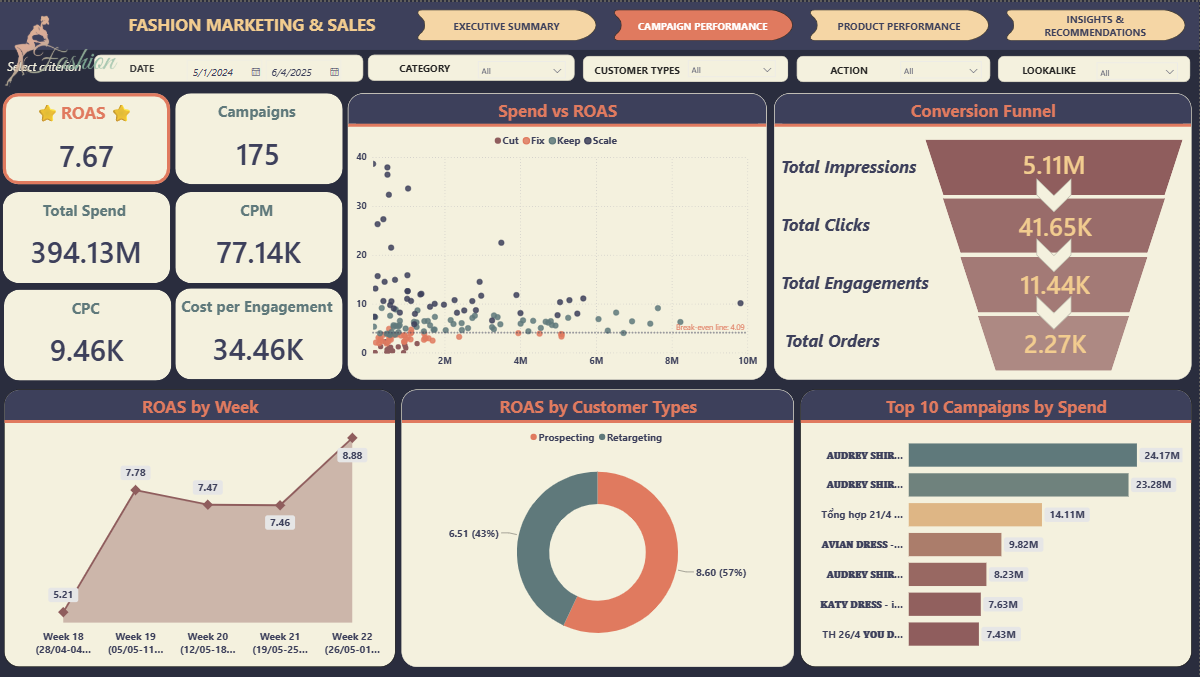

This screenshot's page, from the dashboard's own definition file:
{"tool":"powerbi","page":{"name":"CAMPAIGN PERFORMANCE","canvas":[1920,1080],"ordinal":1},"visuals":[{"type":"shape","box":[0,0,1920,76.7],"z":0},{"type":"shape","box":[152,84,431,43.6],"z":0,"group":"g13"},{"type":"shape","box":[1482,220,412,88.9],"z":0,"group":"g1"},{"type":"shape","box":[1565.9,501.7,242.5,88],"z":0,"group":"g2"},{"type":"textbox","box":[167.3,89.4,121.1,32.3],"z":1000,"group":"g13"},{"type":"shape","box":[282.1,146,267.8,145.4],"z":1000,"group":"g4"},{"type":"scatterChart","title":"Spend vs ROAS","fields":{"Category":["Dim_Camp_Cost.Tên chiến dịch"],"Series":["Dim_Camp_Cost.Action Bucket Col"],"X":["_Measures.Total Spend"],"Y":["_Measures.ROAS (Return on Ads Spend)"]},"box":[558,146,670,458],"z":1000},{"type":"shape","box":[5.2,146.7,267.8,145.5],"z":1000,"group":"g6"},{"type":"group","id":"g1","title":"Funnel","box":[1482,220,412,369.7],"z":1000,"group":"g15"},{"type":"shape","box":[282.1,303.7,267.8,145.9],"z":1000,"group":"g7"},{"type":"shape","box":[5.2,304.1,267.8,145.9],"z":1000,"group":"g8"},{"type":"shape","box":[1509.2,314.8,355.9,87.4],"z":1000,"group":"g1"},{"type":"shape","box":[281.5,458.7,267.8,145.9],"z":1000,"group":"g9"},{"type":"shape","box":[7.6,460.1,267.8,145.9],"z":1000,"group":"g10"},{"type":"slicer","fields":{"Values":["Dim_Date.Date"]},"box":[287.5,87,279.9,37.9],"z":2000,"group":"g13"},{"type":"shape","box":[1537.7,408.2,299.6,89.1],"z":2000,"group":"g1"},{"type":"clusteredBarChart","title":"Top 10 Campaigns by Spend","fields":{"Category":["Dim_Camp_Cost.Tên chiến dịch"],"Y":["_Measures.Total Spend"]},"box":[1282,620,626,444],"z":2000},{"type":"pageNavigator","box":[662,12,1244,50],"z":3000},{"type":"shape","box":[590.9,84,331.1,42.2],"z":3000,"group":"g13"},{"type":"shape","box":[1276.7,85.6,310.3,42.2],"z":3000,"group":"g3"},{"type":"group","id":"g2","title":"Group 1","box":[1565.9,501.7,242.5,88],"z":3000,"group":"g1"},{"type":"textbox","box":[8,86,141.1,40],"z":4000},{"type":"textbox","box":[597.5,89,166.3,32.6],"z":4000,"group":"g13"},{"type":"textbox","box":[1283.1,91.8,155.9,32.7],"z":4000,"group":"g3"},{"type":"slicer","fields":{"Values":["Dim_Product.Danh mục"]},"box":[756.7,89,160,35.6],"z":5000,"group":"g13"},{"type":"slicer","fields":{"Values":["Dim_Camp_Cost.Action Bucket Col"]},"box":[1432.2,89.4,149.9,35.7],"z":5000,"group":"g3"},{"type":"funnel","title":"Conversion Funnel","fields":{"Y":["_Measures.Funnel Value"]},"box":[1240,145.7,668,458],"z":5000},{"type":"textbox","box":[276.9,154.7,273.2,66.6],"z":5000,"group":"g4"},{"type":"textbox","box":[0,155.4,273.2,66.6],"z":5000,"group":"g6"},{"type":"textbox","box":[276.9,312.4,273.1,66.8],"z":5000,"group":"g7"},{"type":"textbox","box":[0,312.8,273.2,66.8],"z":5000,"group":"g8"},{"type":"textbox","box":[276.3,467.4,273.2,66.8],"z":5000,"group":"g9"},{"type":"textbox","box":[2.4,468.8,273.2,66.8],"z":5000,"group":"g10"},{"type":"group","id":"g3","title":"Group 2","box":[1276.7,85.6,631.1,42.2],"z":6000,"group":"g12"},{"type":"shape","box":[1599.4,85.6,308.4,42.2],"z":6000,"group":"g3"},{"type":"shape","box":[934.8,86,328.8,42],"z":6000,"group":"g13"},{"type":"group","id":"g4","title":"Group 1","box":[276.9,146,273.2,145.9],"z":6000,"group":"g14"},{"type":"group","id":"g5","title":"Group 3","box":[0,146.7,273.8,147.5],"z":6000,"group":"g11"},{"type":"group","id":"g6","title":"Group 1","box":[0,146.7,273.8,147.5],"z":6000,"group":"g5"},{"type":"group","id":"g7","title":"Group 1","box":[276.9,303.7,274.2,146.4],"z":6000,"group":"g16"},{"type":"group","id":"g8","title":"Group 1","box":[0,304.1,273.2,145.9],"z":6000,"group":"g18"},{"type":"group","id":"g9","title":"Group 1","box":[276.3,458.7,273.2,145.9],"z":6000,"group":"g20"},{"type":"group","id":"g10","title":"Group 1","box":[2.4,460.1,273.2,145.9],"z":6000,"group":"g19"},{"type":"donutChart","title":"ROAS by Customer Types","fields":{"Category":["Dim_Camp_Cost.Customer Types"],"Y":["_Measures.ROAS (Return on Ads Spend)"]},"box":[644,620,628,444],"z":6000},{"type":"textbox","box":[1603.7,91,152.2,32],"z":7000,"group":"g12"},{"type":"textbox","box":[932,92,178.2,32],"z":7000,"group":"g13"},{"type":"group","id":"g11","title":"Group 4","box":[0,146,551.7,458.8],"z":7000},{"type":"group","id":"g12","title":"Group 5","box":[1276.7,85.6,631.1,42.2],"z":8000},{"type":"slicer","fields":{"Values":["Dim_Camp_Cost.Customer Types"]},"box":[1091.1,88.9,160,35.6],"z":8000,"group":"g13"},{"type":"slicer","fields":{"Values":["Dim_Camp_Cost.Lookalike"]},"box":[1746,91.2,150,35.1],"z":8000,"group":"g3"},{"type":"group","id":"g13","title":"Group 6","box":[152,84,1111.6,44],"z":9000},{"type":"group","id":"g14","title":"Group 3","box":[276.9,146,273.2,144.7],"z":10000,"group":"g11"},{"type":"group","id":"g15","title":"Group 7","box":[1246,220,648,369.7],"z":10000},{"type":"textbox","box":[1246,240,246,54],"z":11000,"group":"g15"},{"type":"group","id":"g16","title":"Group 3","box":[276.9,303.7,274.8,145.2],"z":11000,"group":"g11"},{"type":"areaChart","title":"ROAS by Week","fields":{"Category":["Dim_Date.Week-Date"],"Y":["_Measures.ROAS (Return on Ads Spend)"]},"box":[8,620,626,444],"z":11000},{"type":"group","id":"g17","title":"Group 5","box":[0,12.8,623.6,133.9],"z":11001},{"type":"textbox","box":[201.8,12.8,421.9,47.7],"z":12000,"group":"g17"},{"type":"group","id":"g18","title":"Group 3","box":[0,304.1,273.8,146.1],"z":12000,"group":"g11"},{"type":"textbox","box":[1246,332,224,54],"z":12000,"group":"g15"},{"type":"image","box":[0,12.8,201.8,133.9],"z":13000,"group":"g17"},{"type":"textbox","box":[1246,426,262,54],"z":13000,"group":"g15"},{"type":"group","id":"g19","title":"Group 3","box":[2.4,460.1,272.5,144.7],"z":13000,"group":"g11"},{"type":"group","id":"g20","title":"Group 3","box":[276.3,458.7,273.8,146.1],"z":14000,"group":"g11"},{"type":"textbox","box":[1252,518,224,54],"z":14000,"group":"g15"},{"type":"shape","box":[1660,281.4,55.7,54.3],"z":15000,"group":"g15"},{"type":"cardVisual","fields":{"Data":["_Measures.Campaign Count"]},"box":[283,187.4,265.7,104.5],"z":16000,"group":"g4"},{"type":"cardVisual","fields":{"Data":["_Measures.ROAS (Return on Ads Spend)"]},"box":[7.7,194,264.6,99.5],"z":16000,"group":"g6"},{"type":"cardVisual","fields":{"Data":["_Measures.CPM"]},"box":[283.2,345.3,267.8,104.8],"z":16000,"group":"g7"},{"type":"cardVisual","fields":{"Data":["_Measures.Total Spend"]},"box":[5.2,345.7,267.9,103.5],"z":16000,"group":"g8"},{"type":"shape","box":[1660,377.1,55.7,54.3],"z":16000,"group":"g15"},{"type":"cardVisual","fields":{"Data":["_Measures.Cost per Cmt + Ib"]},"box":[282.9,500.9,265.7,103.5],"z":16000,"group":"g9"},{"type":"cardVisual","fields":{"Data":["_Measures.CPC"]},"box":[9,502.3,265.7,103.5],"z":16000,"group":"g10"},{"type":"shape","box":[1660,470,55.7,54.3],"z":17000,"group":"g15"},{"type":"cardVisual","fields":{"Data":["_Measures.Total Impressions"]},"box":[1535.7,222.9,304.3,71.4],"z":18000,"group":"g15"},{"type":"cardVisual","fields":{"Data":["_Measures.Total Clicks"]},"box":[1537.1,322.9,304.3,71.4],"z":19000,"group":"g15"},{"type":"cardVisual","fields":{"Data":["_Measures.Total Comment + Ib"]},"box":[1537.1,414.3,304.3,71.4],"z":20000,"group":"g15"},{"type":"cardVisual","fields":{"Data":["_Measures.Total Units Sold (Ads)"]},"box":[1538.6,508.6,304.3,71.4],"z":21000,"group":"g15"}]}

Visuals, with their boxes in screenshot pixels (x1, y1, x2, y2), scaled from the page's 1920x1080 canvas onto the 1200x677 screenshot:
shape: [0,0,1199,48]
shape: [95,53,364,80]
shape: [926,138,1184,194]
shape: [979,314,1130,370]
textbox: [105,56,180,76]
shape: [176,92,344,183]
"Spend vs ROAS" scatterChart: [349,92,768,379]
shape: [3,92,171,183]
"Funnel" group: [926,138,1184,370]
shape: [176,190,344,282]
shape: [3,191,171,282]
shape: [943,197,1166,252]
shape: [176,288,343,379]
shape: [5,288,172,380]
slicer - Dim_Date.Date: [180,55,355,78]
shape: [961,256,1148,312]
"Top 10 Campaigns by Spend" clusteredBarChart: [801,389,1192,667]
pageNavigator: [414,8,1191,39]
shape: [369,53,576,79]
shape: [798,54,992,80]
"Group 1" group: [979,314,1130,370]
textbox: [5,54,93,79]
textbox: [373,56,477,76]
textbox: [802,58,899,78]
slicer - Dim_Product.Danh mục: [473,56,573,78]
slicer - Dim_Camp_Cost.Action Bucket Col: [895,56,989,78]
"Conversion Funnel" funnel: [775,91,1192,378]
textbox: [173,97,344,139]
textbox: [0,97,171,139]
textbox: [173,196,344,238]
textbox: [0,196,171,238]
textbox: [173,293,343,335]
textbox: [2,294,172,336]
"Group 2" group: [798,54,1192,80]
shape: [1000,54,1192,80]
shape: [584,54,790,80]
"Group 1" group: [173,92,344,183]
"Group 3" group: [0,92,171,184]
"Group 1" group: [0,92,171,184]
"Group 1" group: [173,190,344,282]
"Group 1" group: [0,191,171,282]
"Group 1" group: [173,288,343,379]
"Group 1" group: [2,288,172,380]
"ROAS by Customer Types" donutChart: [402,389,795,667]
textbox: [1002,57,1097,77]
textbox: [582,58,694,78]
"Group 4" group: [0,92,345,379]
"Group 5" group: [798,54,1192,80]
slicer - Dim_Camp_Cost.Customer Types: [682,56,782,78]
slicer - Dim_Camp_Cost.Lookalike: [1091,57,1185,79]
"Group 6" group: [95,53,790,80]
"Group 3" group: [173,92,344,182]
"Group 7" group: [779,138,1184,370]
textbox: [779,150,932,184]
"Group 3" group: [173,190,345,281]
"ROAS by Week" areaChart: [5,389,396,667]
"Group 5" group: [0,8,390,92]
textbox: [126,8,390,38]
"Group 3" group: [0,191,171,282]
textbox: [779,208,919,242]
image: [0,8,126,92]
textbox: [779,267,942,301]
"Group 3" group: [2,288,172,379]
"Group 3" group: [173,288,344,379]
textbox: [782,325,922,359]
shape: [1038,176,1072,210]
cardVisual - _Measures.Campaign Count: [177,117,343,183]
cardVisual - _Measures.ROAS (Return on Ads Spend): [5,122,170,184]
cardVisual - _Measures.CPM: [177,216,344,282]
cardVisual - _Measures.Total Spend: [3,217,171,282]
shape: [1038,236,1072,270]
cardVisual - _Measures.Cost per Cmt + Ib: [177,314,343,379]
cardVisual - _Measures.CPC: [6,315,172,380]
shape: [1038,295,1072,329]
cardVisual - _Measures.Total Impressions: [960,140,1150,184]
cardVisual - _Measures.Total Clicks: [961,202,1151,247]
cardVisual - _Measures.Total Comment + Ib: [961,260,1151,304]
cardVisual - _Measures.Total Units Sold (Ads): [962,319,1152,364]
